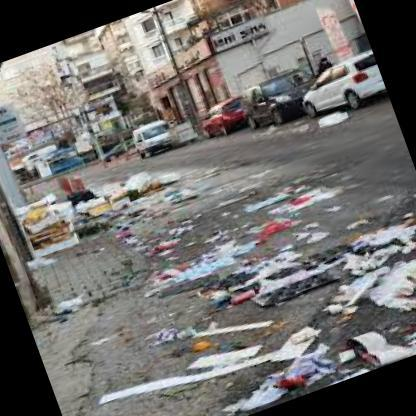Garbage: (209, 207, 415, 326), (296, 290, 415, 391), (301, 250, 415, 351), (99, 162, 169, 216), (81, 184, 136, 234)
